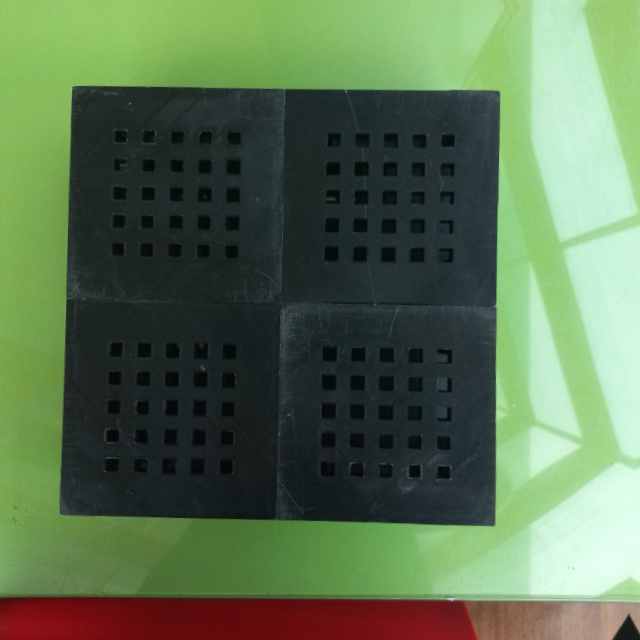pallet: (65, 80, 498, 530)
